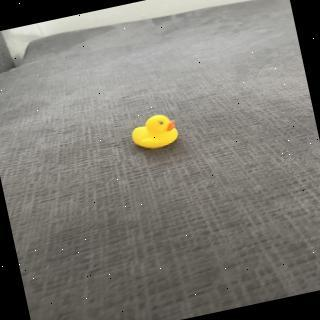duck_regular: (128, 111, 183, 156)
